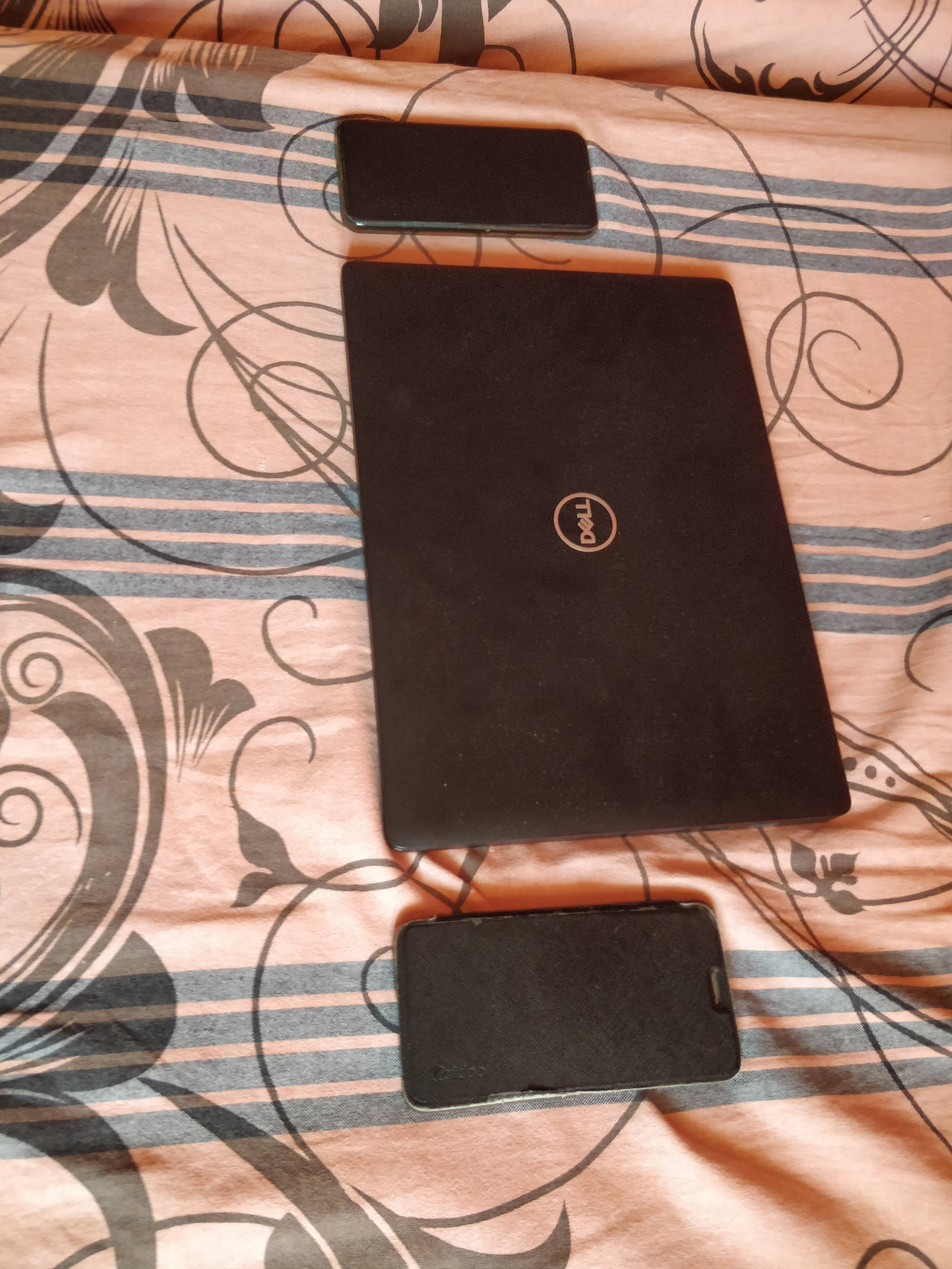Electronics: (321, 245, 884, 878), (372, 872, 772, 1130), (313, 95, 628, 255)
